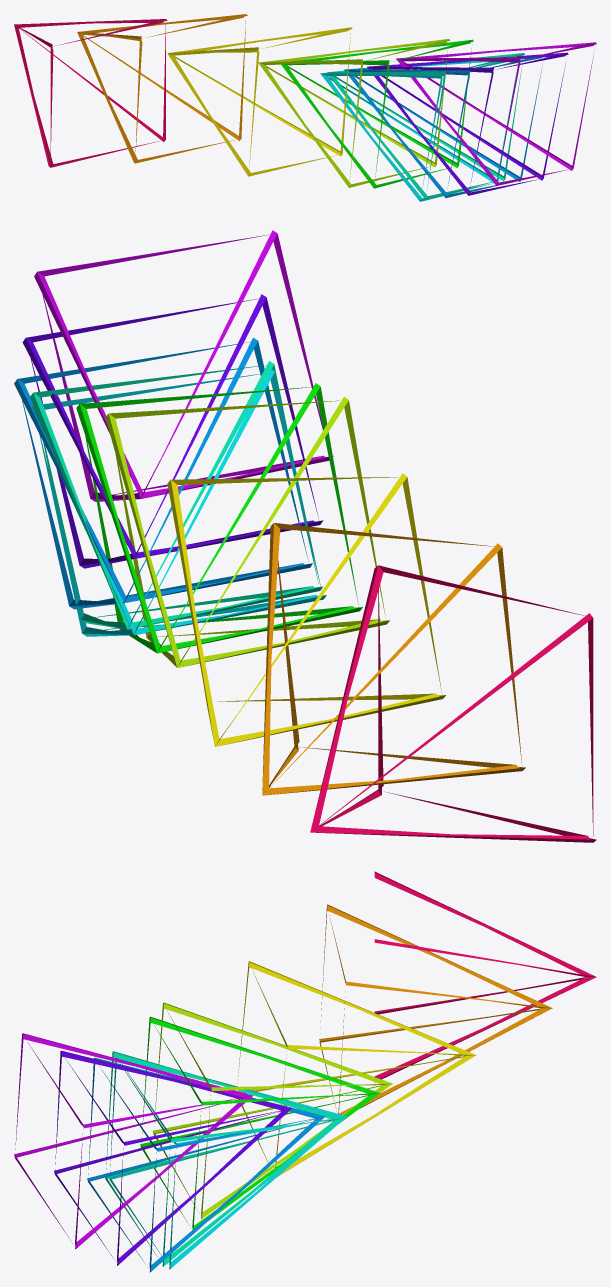
The model's file is glbscene_50_All_maskbFalse_maskwFalse_camTrue_skyFalse_predDepthmap_and_Camera_Branch.glb.
3 views of the same model, one above another, from view 1: azimuth 30°, elevation 25°; view 2: azimuth 150°, elevation 25°; view 3: azimuth 270°, elevation 25° (orthographic). The views are drawn at different scales.
Visible parts, largest first — view 1: world; view 2: world; view 3: world.
Part boxes in pixels (x1,y1,x2,y2): world: (14,14,596,201); world: (14,230,596,842); world: (14,871,596,1272).
Bounding box in the file's own units: 0.2572 × 0.1052 × 0.259.
